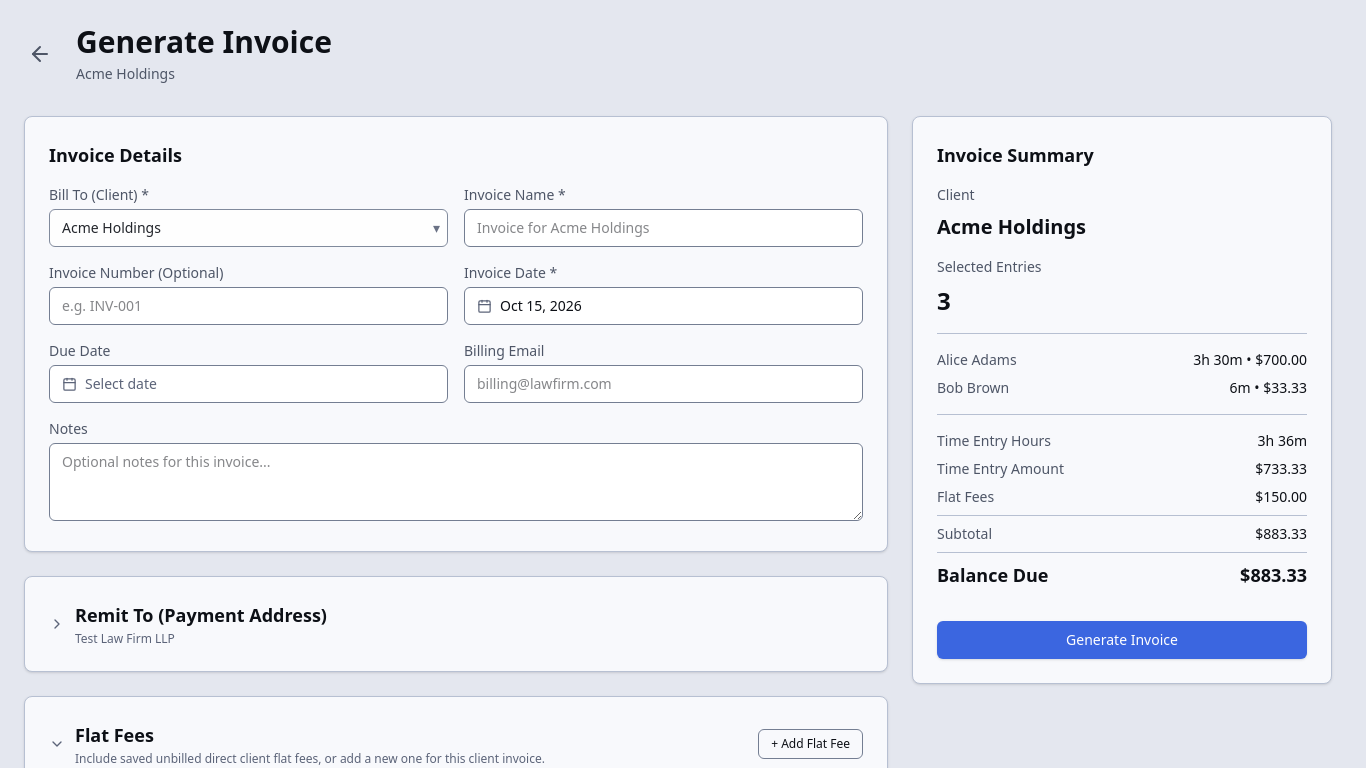
Scenario: client generate-invoice submit › refuses to submit without an invoice name
What coordinates should you click on to do the following:
click the button "Generate Invoice"
I would click on:
 (1122, 640)
Its box is [937,621,1307,659].
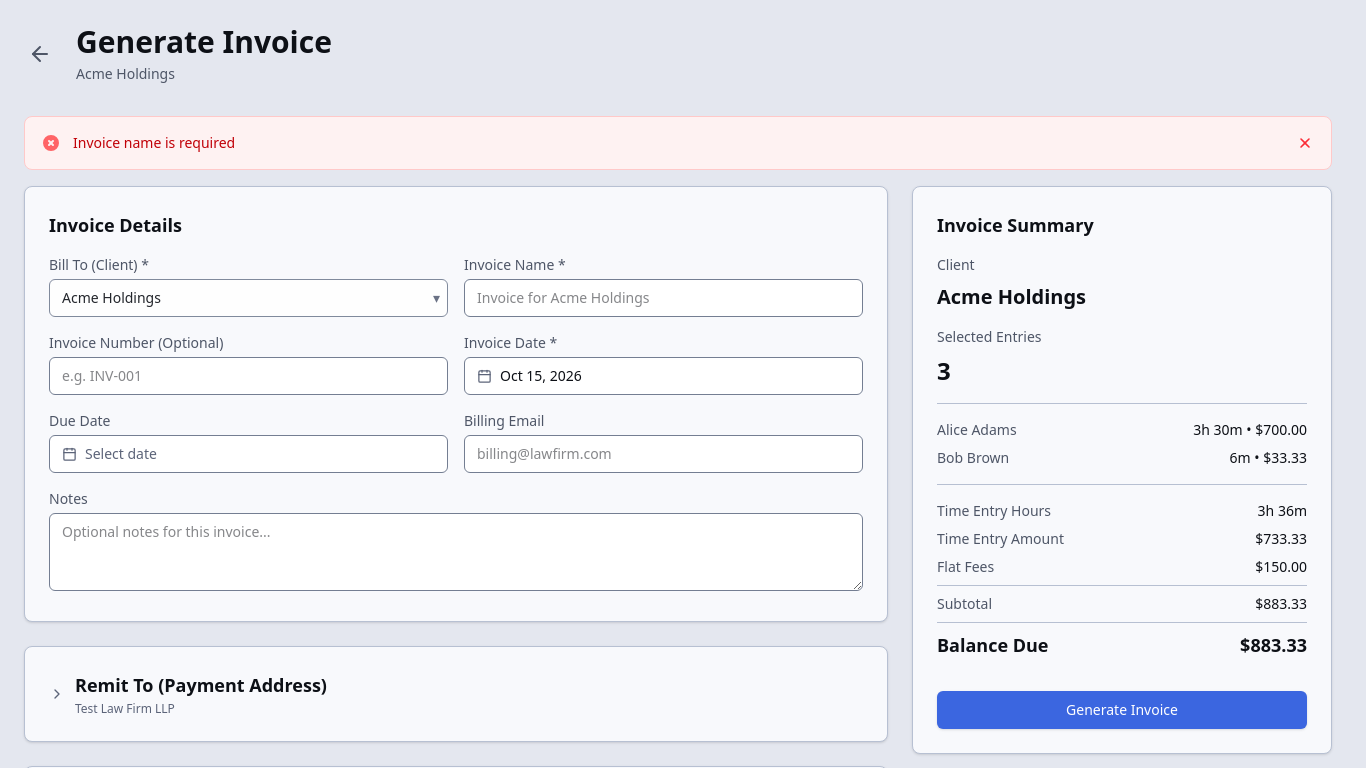
Now the text "Invoice name is required" is shown, box [73,133,235,152]
